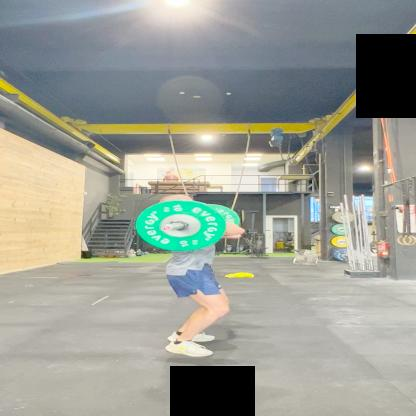barbell: (136, 201, 228, 252)
